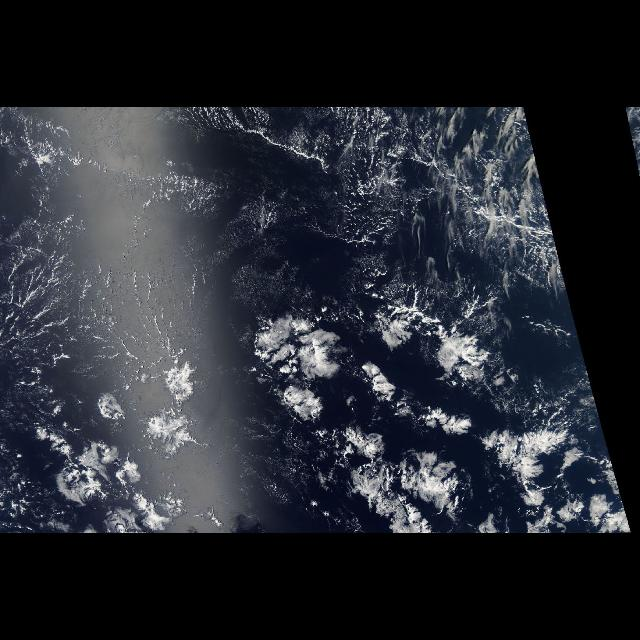Flower: (238, 286, 634, 534), (1, 346, 228, 530)
Sugar: (4, 110, 238, 358)
